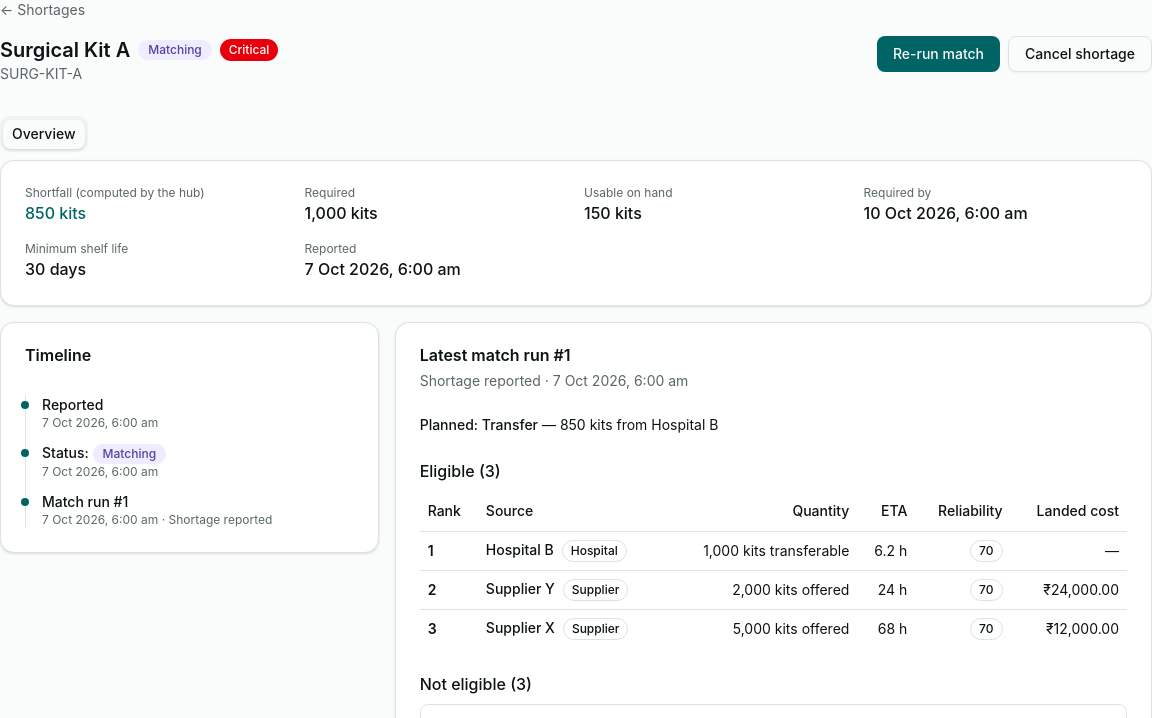
Test: Shortage detail › re-runs the match with the typed reason and refreshes the run
The image size is (1152, 718).
Click the button "Re-run match" at [938, 54], box [877,36,1000,72]
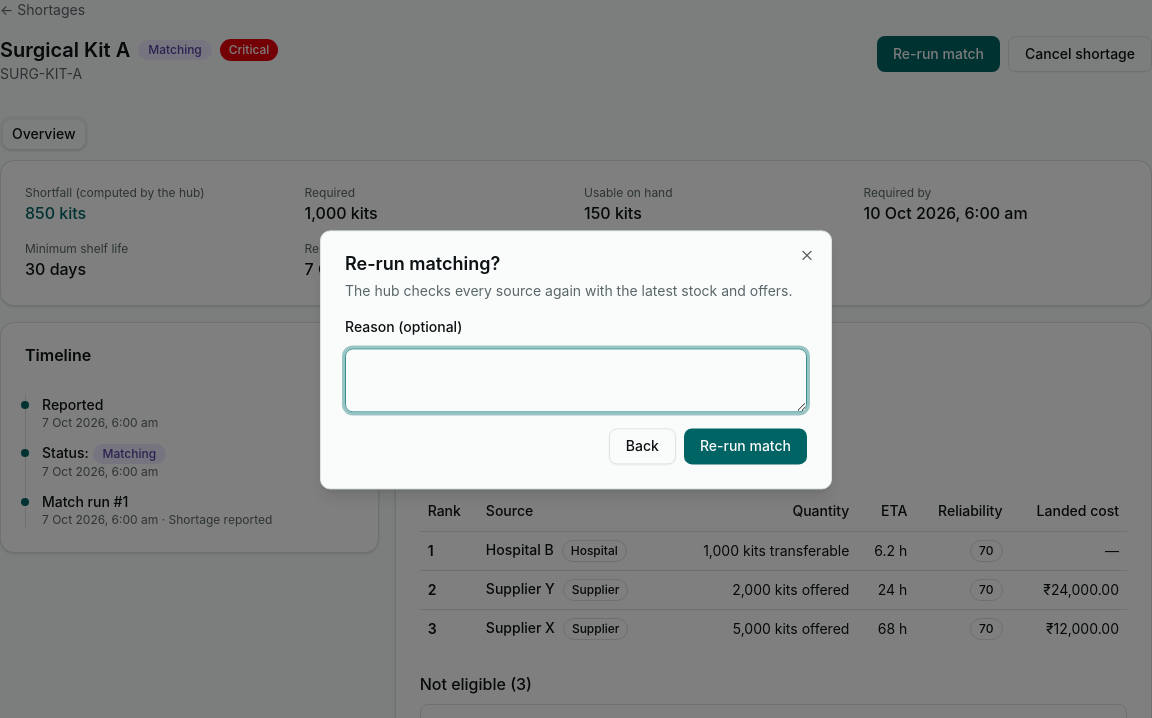
Type "Stock arrived at B" into the text box labelled "Reason (optional)" at [576, 381], box [345,349,807,413]
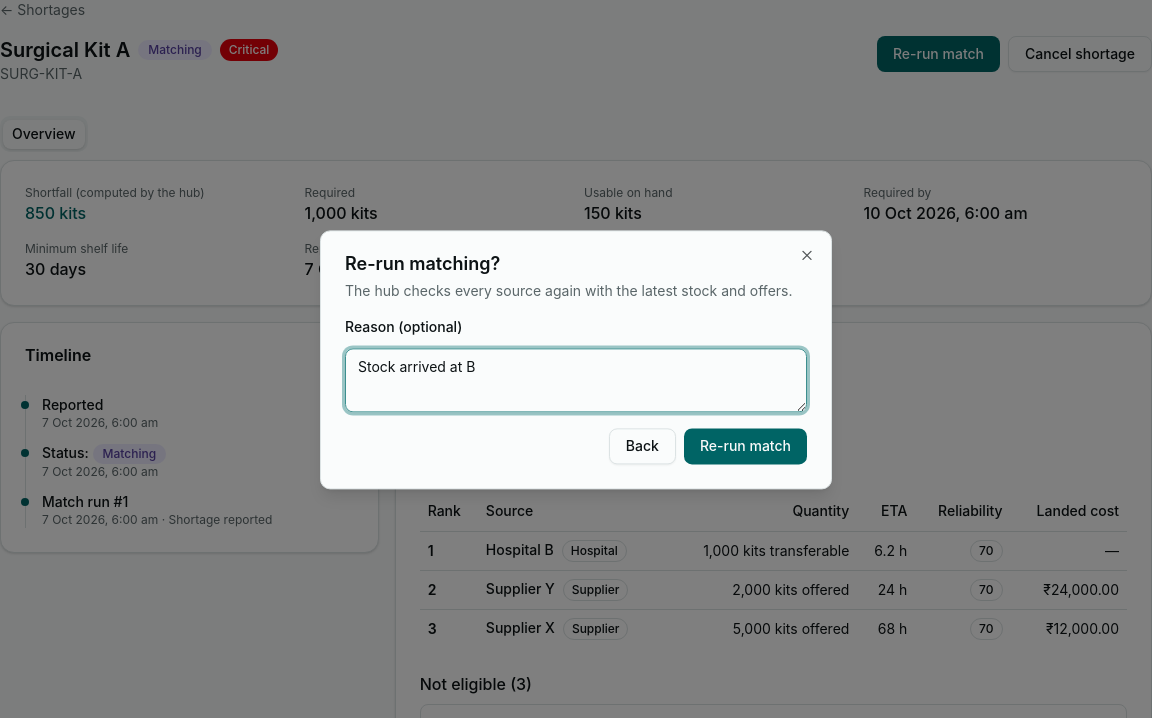
Click the button "Re-run match" at [745, 447], box [684,429,807,465]
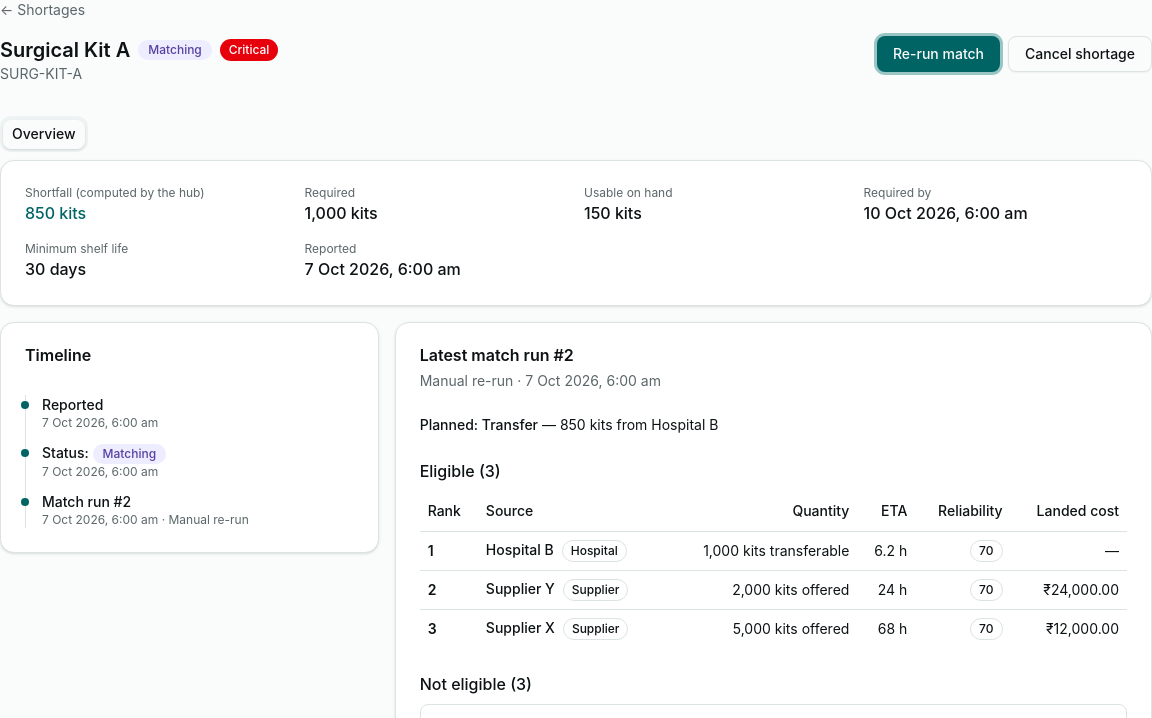
Result: the text "Latest match run #2" is shown at [420,345,574,365]
